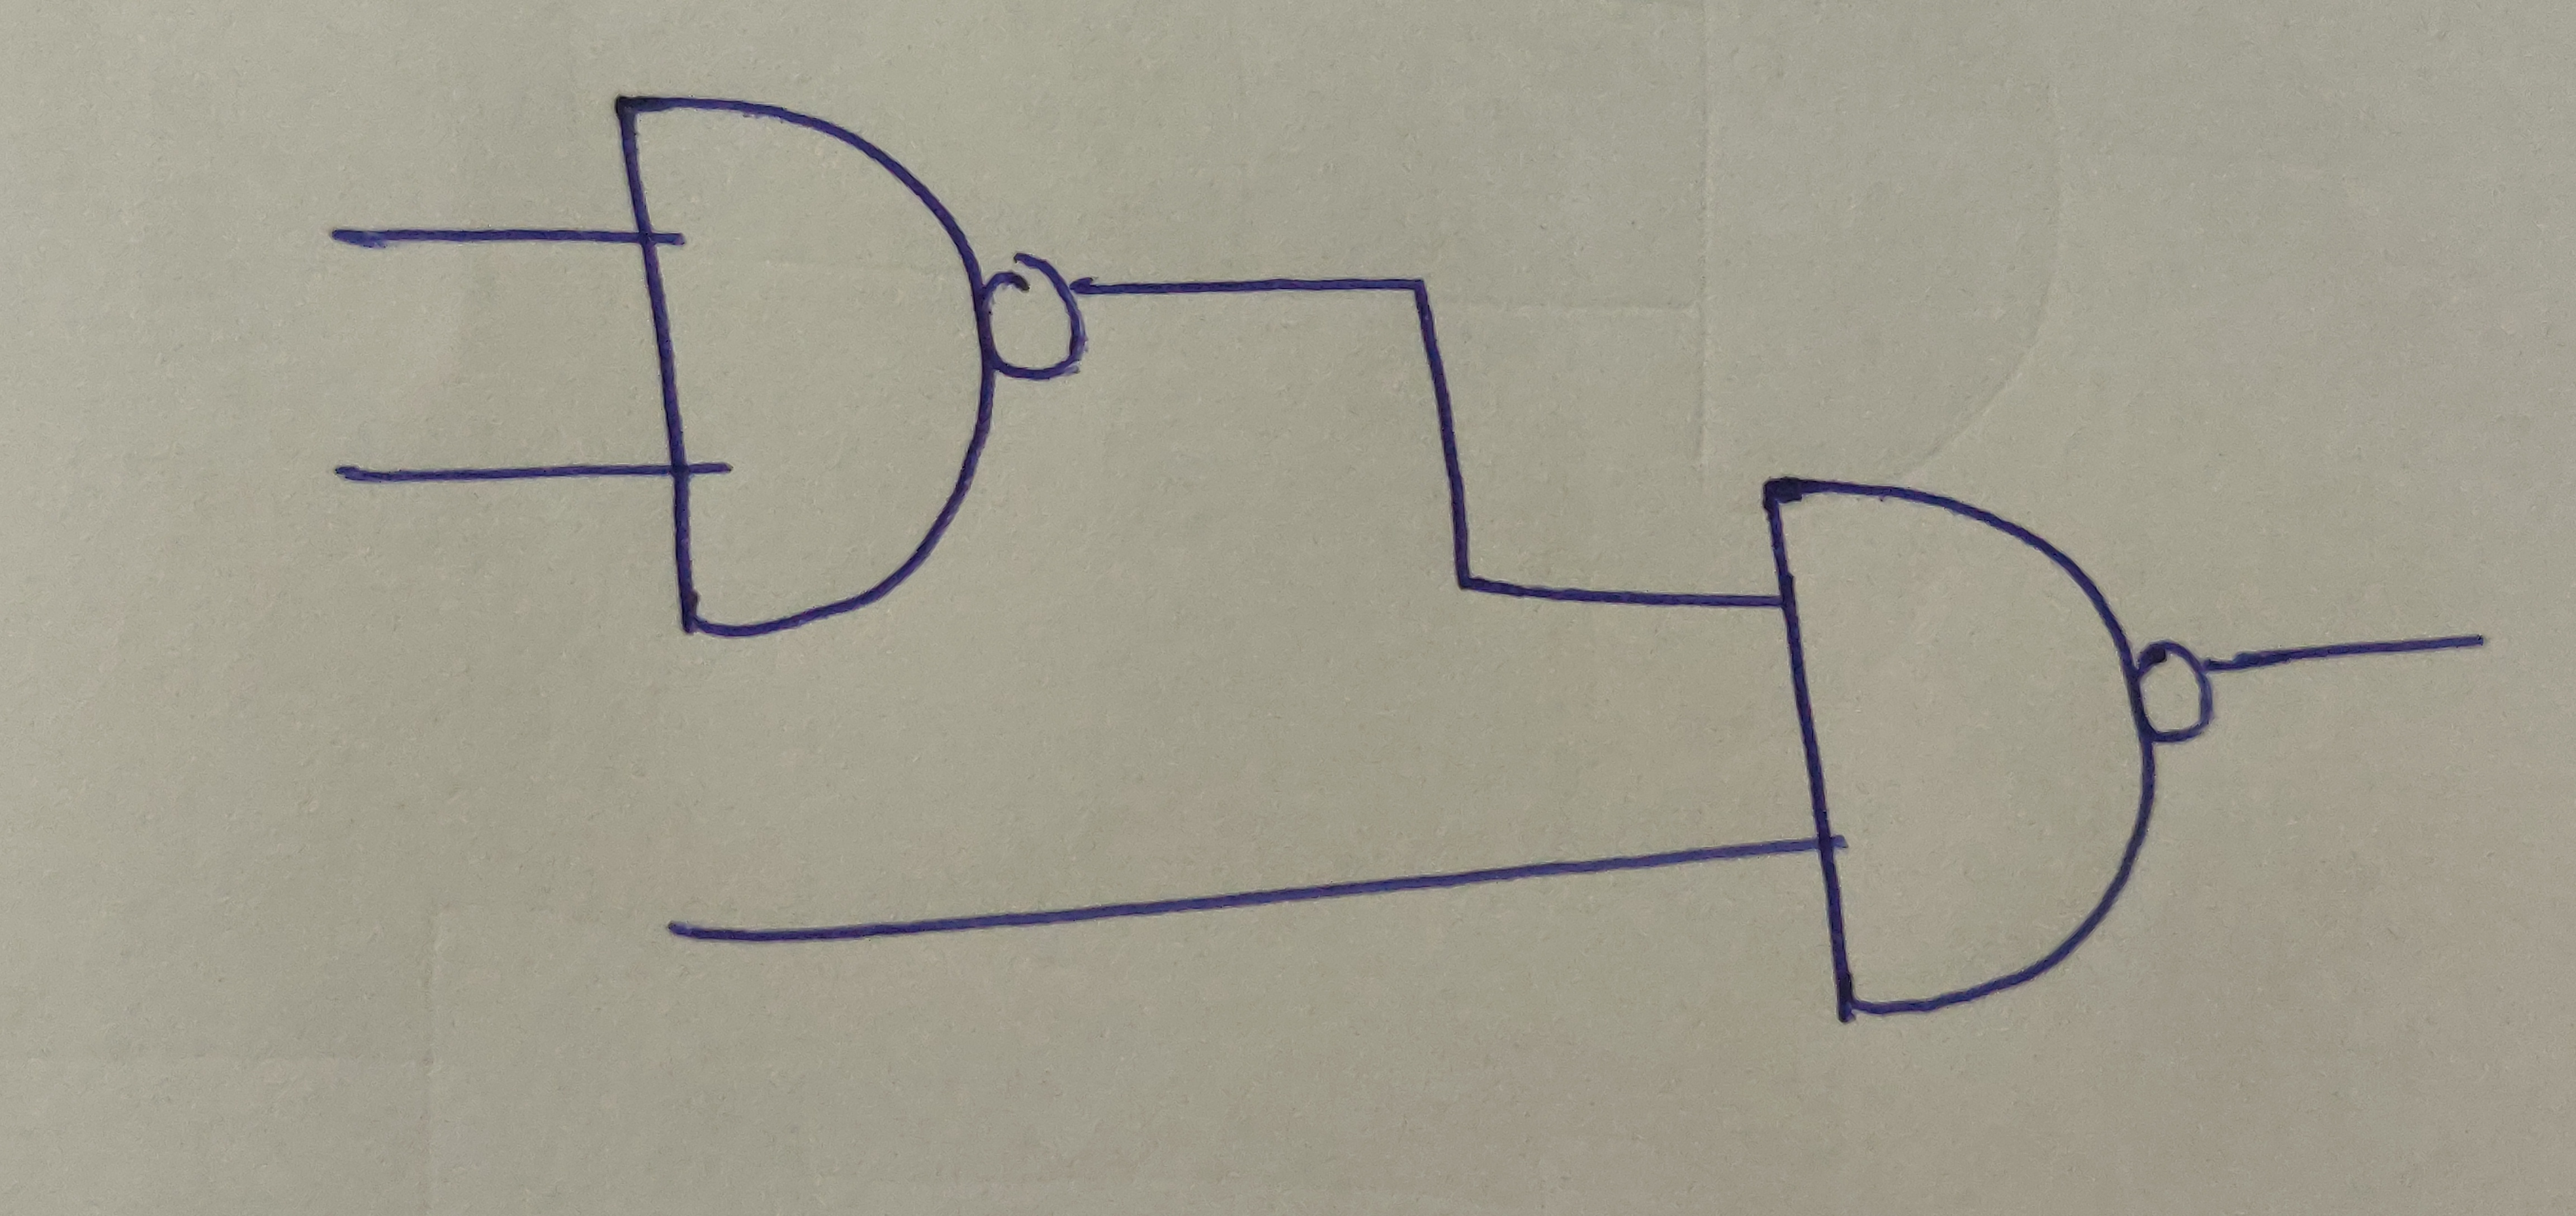and: (1759, 473, 2152, 1016), (613, 90, 997, 638)
not: (982, 261, 1084, 386), (2141, 646, 2218, 746)
